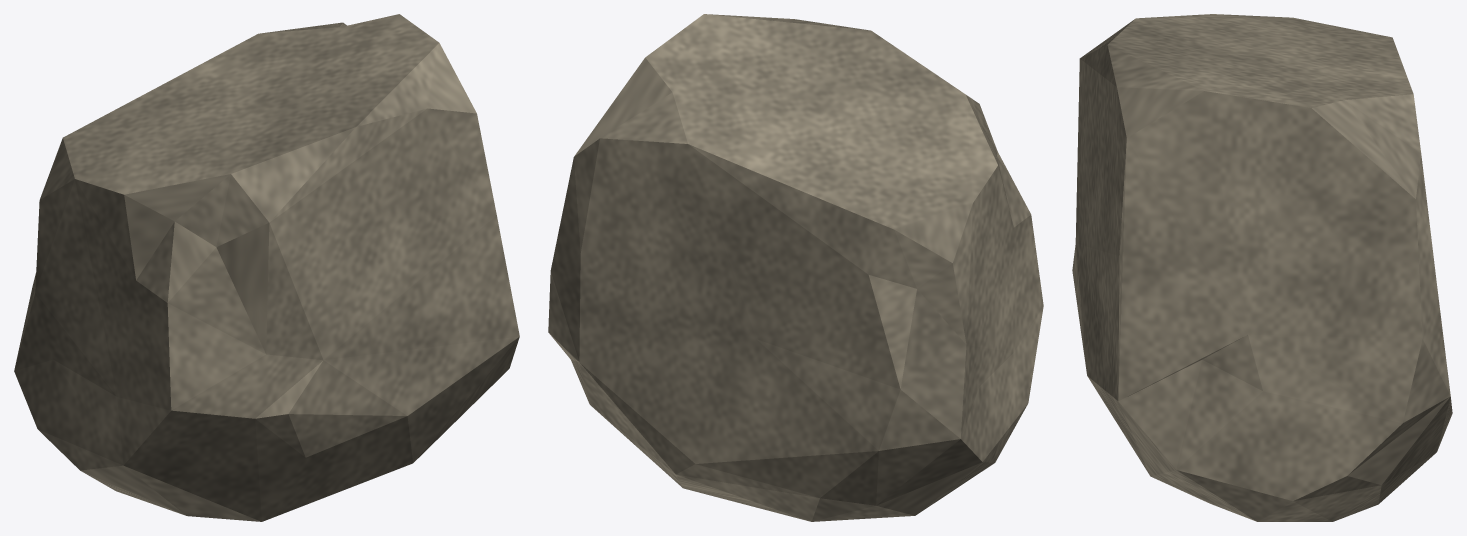
The model's file is pacific-outcrop-lod.glb.
3 renders of one model, left to right at view 1: azimuth 30°, elevation 25°; view 2: azimuth 150°, elevation 25°; view 3: azimuth 270°, elevation 25°, orthographic. The views are drawn at different scales.
Visible parts, largest first — view 1: LifeRoot_Coastal sandstone mineral; view 2: LifeRoot_Coastal sandstone mineral; view 3: LifeRoot_Coastal sandstone mineral.
Part boxes in pixels (<box>): LifeRoot_Coastal sandstone mineral: <box>14,14,519,521</box>; LifeRoot_Coastal sandstone mineral: <box>548,14,1043,521</box>; LifeRoot_Coastal sandstone mineral: <box>1072,14,1452,521</box>.
Size of the model in its own units: 2.66 by 2.56 by 1.98.
Materials: 1 (1 with a texture image).
